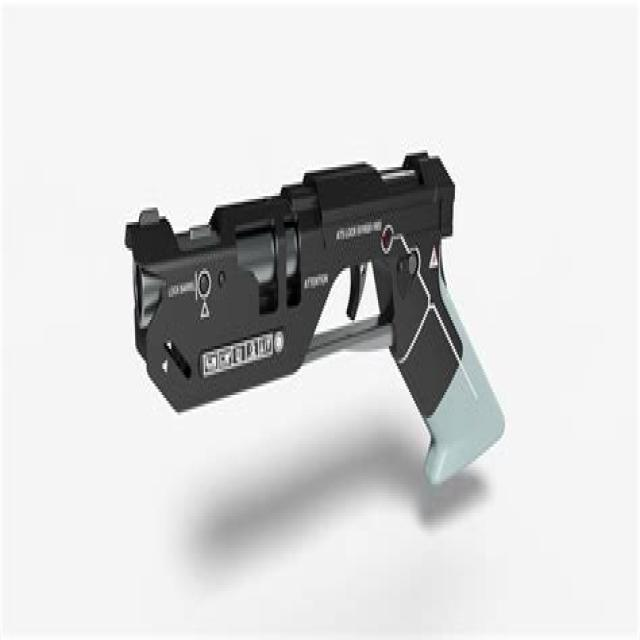weapons: (100, 123, 519, 521)
